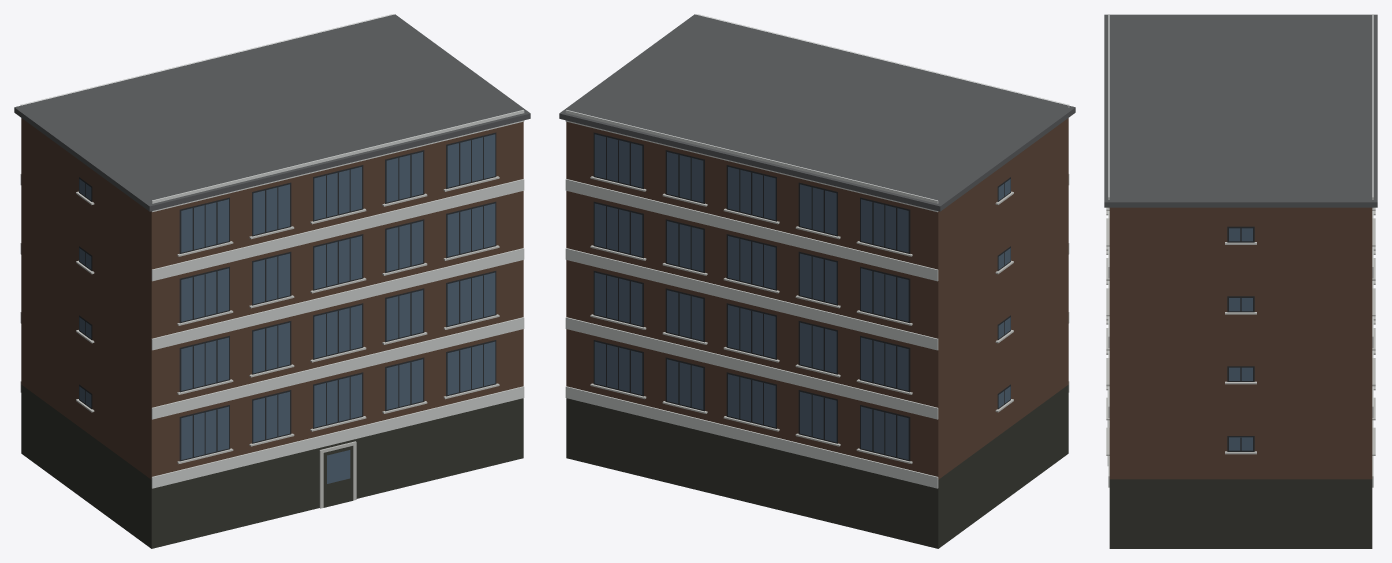
Rendered from nw-slab-band-glazed-flat__brick-white-bands__5__flat__long__solid.glb.
3 renders of one model, left to right at view 1: azimuth 30°, elevation 25°; view 2: azimuth 150°, elevation 25°; view 3: azimuth 270°, elevation 25°, orthographic.
Visible parts, largest first — view 1: nw-slab-band-glazed-flat__brick-white-bands__5__flat__long__; view 2: nw-slab-band-glazed-flat__brick-white-bands__5__flat__long__; view 3: nw-slab-band-glazed-flat__brick-white-bands__5__flat__long__.
Boxes of the visible parts, x1,y1,x2,y2 form: nw-slab-band-glazed-flat__brick-white-bands__5__flat__long__: (14, 14, 530, 548); nw-slab-band-glazed-flat__brick-white-bands__5__flat__long__: (559, 14, 1075, 548); nw-slab-band-glazed-flat__brick-white-bands__5__flat__long__: (1104, 14, 1377, 548).
Bounding box in the file's own units: 16.66 × 14.56 × 10.26.
